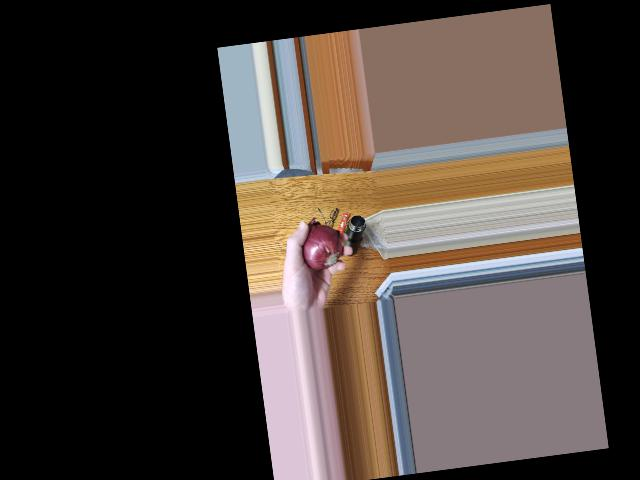onion: (303, 223, 340, 261)
